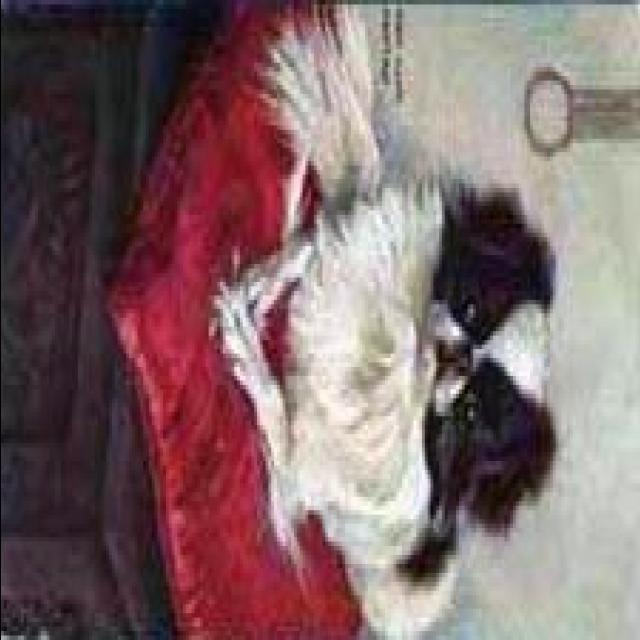husky: (217, 9, 560, 640)
